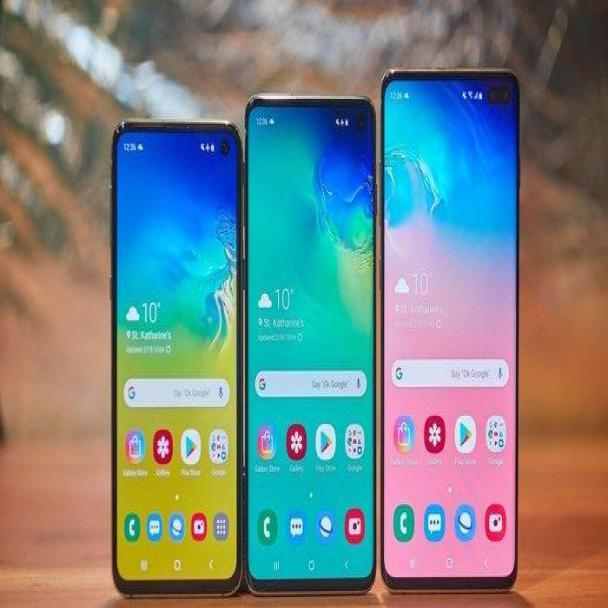Handphone: (378, 64, 521, 590), (243, 92, 376, 590), (110, 122, 243, 596)
